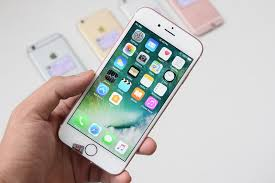iphone: (50, 3, 203, 171)
iphone6: (52, 5, 205, 173)
